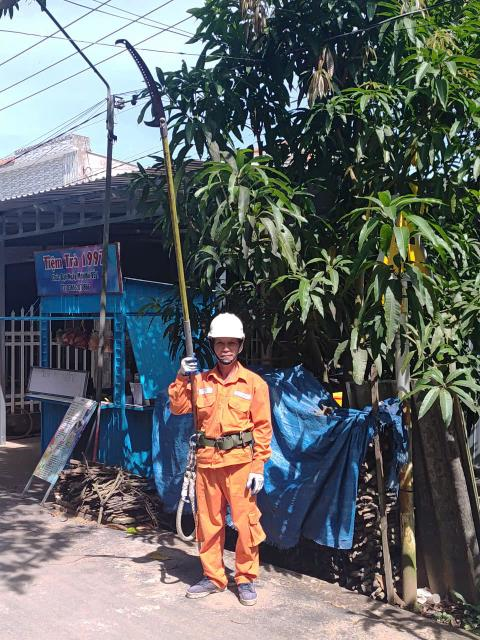gloves: (242, 465, 278, 504), (162, 347, 200, 383)
harness: (176, 426, 267, 454)
helmet: (190, 312, 261, 347)
shoes: (179, 554, 229, 618), (229, 573, 282, 608)
